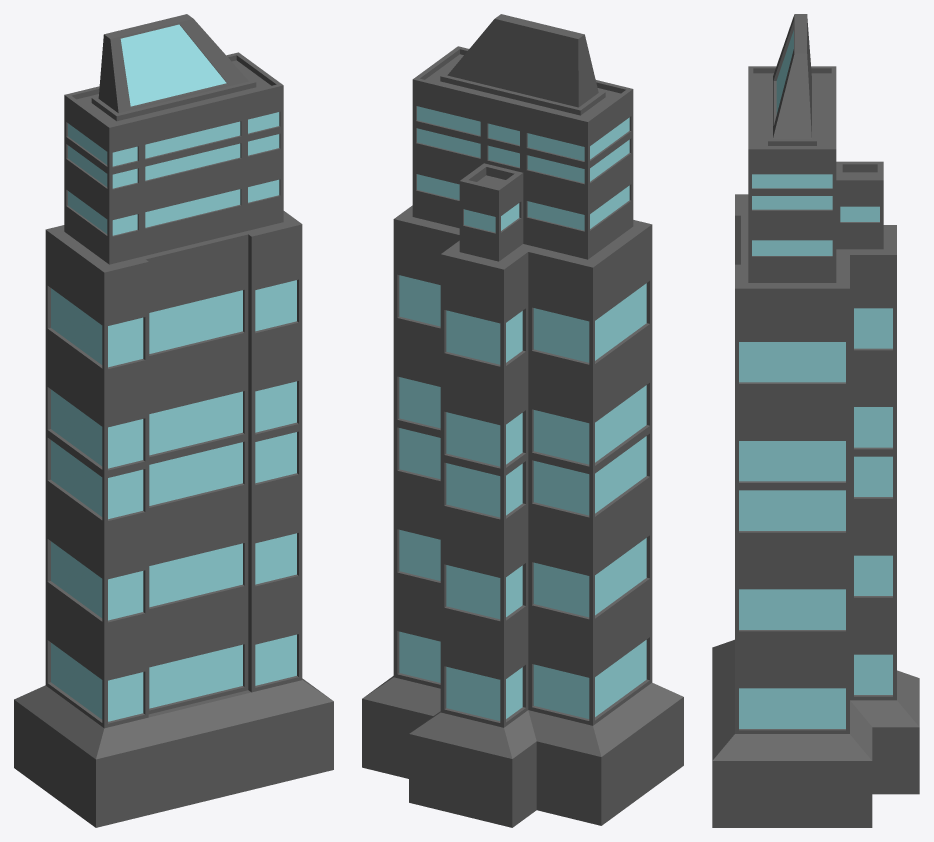
Rendered from skyscraper.fbx.
3 views of the same model, side by side, from view 1: azimuth 30°, elevation 25°; view 2: azimuth 150°, elevation 25°; view 3: azimuth 270°, elevation 25° (orthographic). The views are drawn at different scales.
Visible parts, largest first — view 1: Skyscraper; view 2: Skyscraper; view 3: Skyscraper.
Boxes of the visible parts, left/top/right/bottom form: Skyscraper: left=14, top=14, right=333, bottom=827; Skyscraper: left=362, top=14, right=683, bottom=827; Skyscraper: left=712, top=14, right=919, bottom=827.
Bounding box in the file's own units: 1632 × 4875 × 1259.
